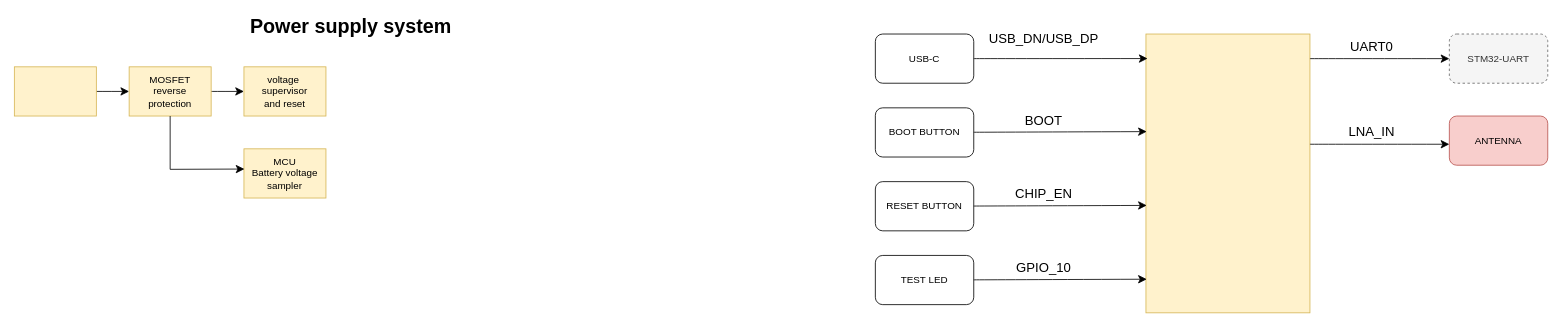
Image size: 1562x327. Some labels were removed from this diagram. Each missing label, with the centre of its shape:
"Battery connector" belongs at (x=55, y=91).
"ESP32-C3FH4" belongs at (x=1227, y=173).
